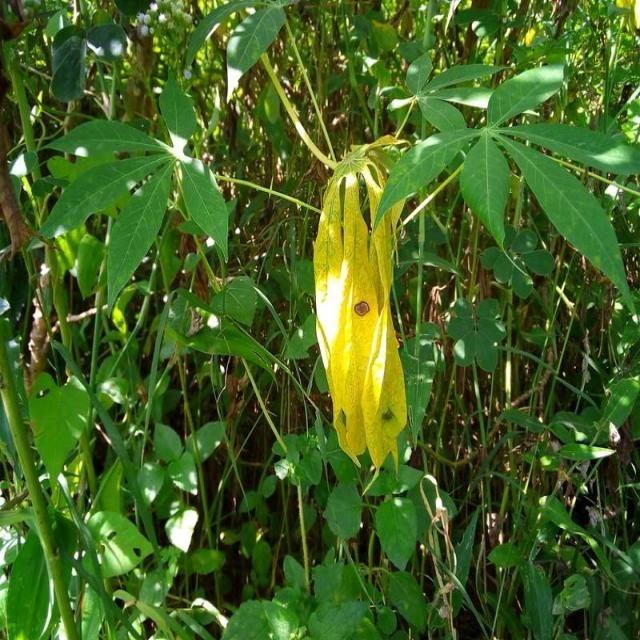cassava leaf: (311, 142, 408, 473)
